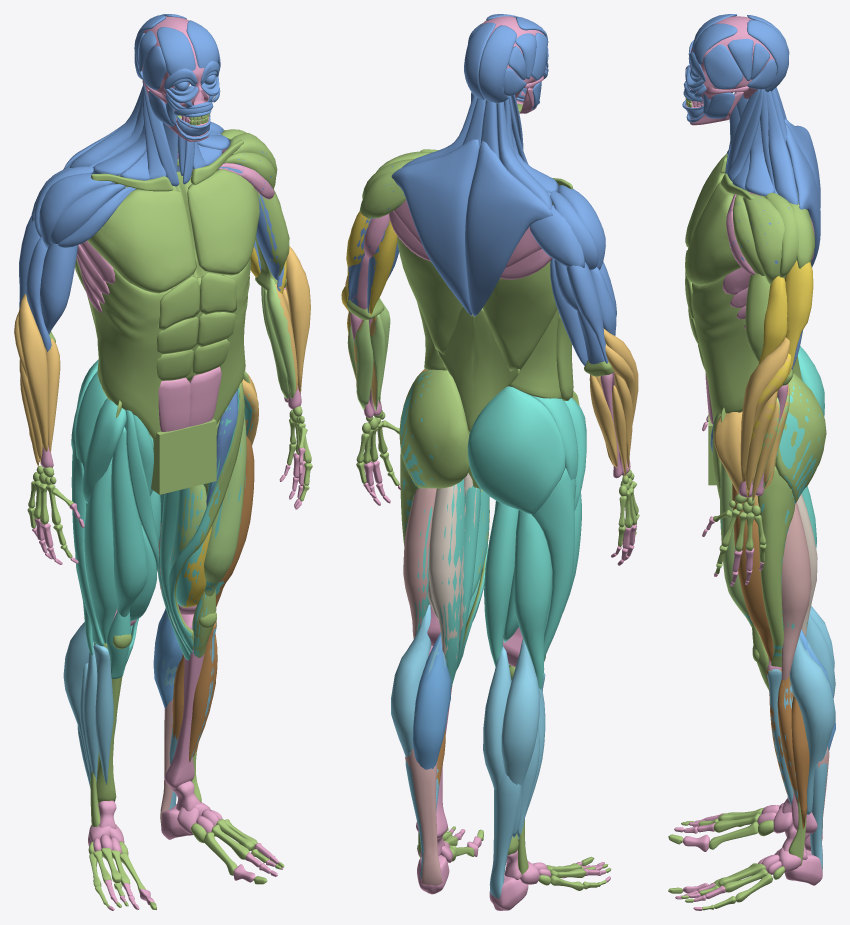
The model's file is nike3d-regions.glb.
3 renders of one model, left to right at view 1: azimuth 30°, elevation 25°; view 2: azimuth 150°, elevation 25°; view 3: azimuth 270°, elevation 25°, orthographic.
Visible parts, largest first — view 1: FOREARM_L_001, LOWER_LEG_004, LOWER_LEG_003, KNEE_1019, KNEE_015, KNEE_016, FOREARM_L_002, ARM_L_002, THORAX_ANT_004, KNEE_1001, LOWER_LEG_001, LUMBAR_CORE_003 (+36 smaller); view 2: FOREARM_L_001, LOWER_LEG_004, ARM_L_002, LOWER_LEG_001, LOWER_LEG_003, FOREARM_L_002, KNEE_1021, KNEE_005, KNEE_1015, THORAX_ANT_004, SKULL_001, SHOULDER_R_001 (+20 smaller); view 3: LOWER_LEG_001, KNEE_1017, ARM_L_001, KNEE_1013, CERVICAL_002, KNEE_016, KNEE_1021, THORAX_ANT_003, ARM_R_001, KNEE_1007, THORAX_POST_002, PELVIS_HIP_002 (+31 smaller).
Boxes of the visible parts, x1=… form: FOREARM_L_001: x1=71, y1=359, x2=160, y2=678; LOWER_LEG_004: x1=63, y1=14, x2=221, y2=186; LOWER_LEG_003: x1=19, y1=166, x2=136, y2=351; KNEE_1019: x1=89, y1=268, x2=171, y2=440; KNEE_015: x1=87, y1=189, x2=196, y2=293; KNEE_016: x1=187, y1=169, x2=259, y2=275; FOREARM_L_002: x1=157, y1=387, x2=254, y2=660; ARM_L_002: x1=63, y1=622, x2=116, y2=787; THORAX_ANT_004: x1=14, y1=294, x2=60, y2=466; KNEE_1001: x1=151, y1=418, x2=216, y2=494; LOWER_LEG_001: x1=111, y1=14, x2=230, y2=185; LUMBAR_CORE_003: x1=203, y1=412, x2=246, y2=596; FOREARM_L_001: x1=467, y1=386, x2=586, y2=689; LOWER_LEG_004: x1=425, y1=15, x2=559, y2=316; ARM_L_002: x1=483, y1=639, x2=545, y2=898; LOWER_LEG_001: x1=391, y1=14, x2=547, y2=315; LOWER_LEG_003: x1=530, y1=185, x2=616, y2=365; FOREARM_L_002: x1=400, y1=370, x2=489, y2=688; KNEE_1021: x1=399, y1=369, x2=469, y2=488; KNEE_005: x1=482, y1=261, x2=557, y2=371; KNEE_1015: x1=437, y1=306, x2=519, y2=433; THORAX_ANT_004: x1=589, y1=328, x2=638, y2=477; SKULL_001: x1=428, y1=484, x2=463, y2=662; SHOULDER_R_001: x1=412, y1=632, x2=451, y2=769; LOWER_LEG_001: x1=682, y1=14, x2=820, y2=267; KNEE_1017: x1=692, y1=274, x2=758, y2=422; ARM_L_001: x1=767, y1=635, x2=832, y2=870; KNEE_1013: x1=757, y1=466, x2=794, y2=667; CERVICAL_002: x1=781, y1=502, x2=811, y2=680; KNEE_016: x1=685, y1=183, x2=741, y2=285; KNEE_1021: x1=775, y1=373, x2=826, y2=503; THORAX_ANT_003: x1=741, y1=337, x2=790, y2=498; ARM_R_001: x1=789, y1=659, x2=835, y2=814; KNEE_1007: x1=743, y1=193, x2=784, y2=284; THORAX_POST_002: x1=732, y1=483, x2=773, y2=662; PELVIS_HIP_002: x1=785, y1=260, x2=813, y2=375.
Size of the model in its own units: 9.97 by 28.69 by 5.11.
